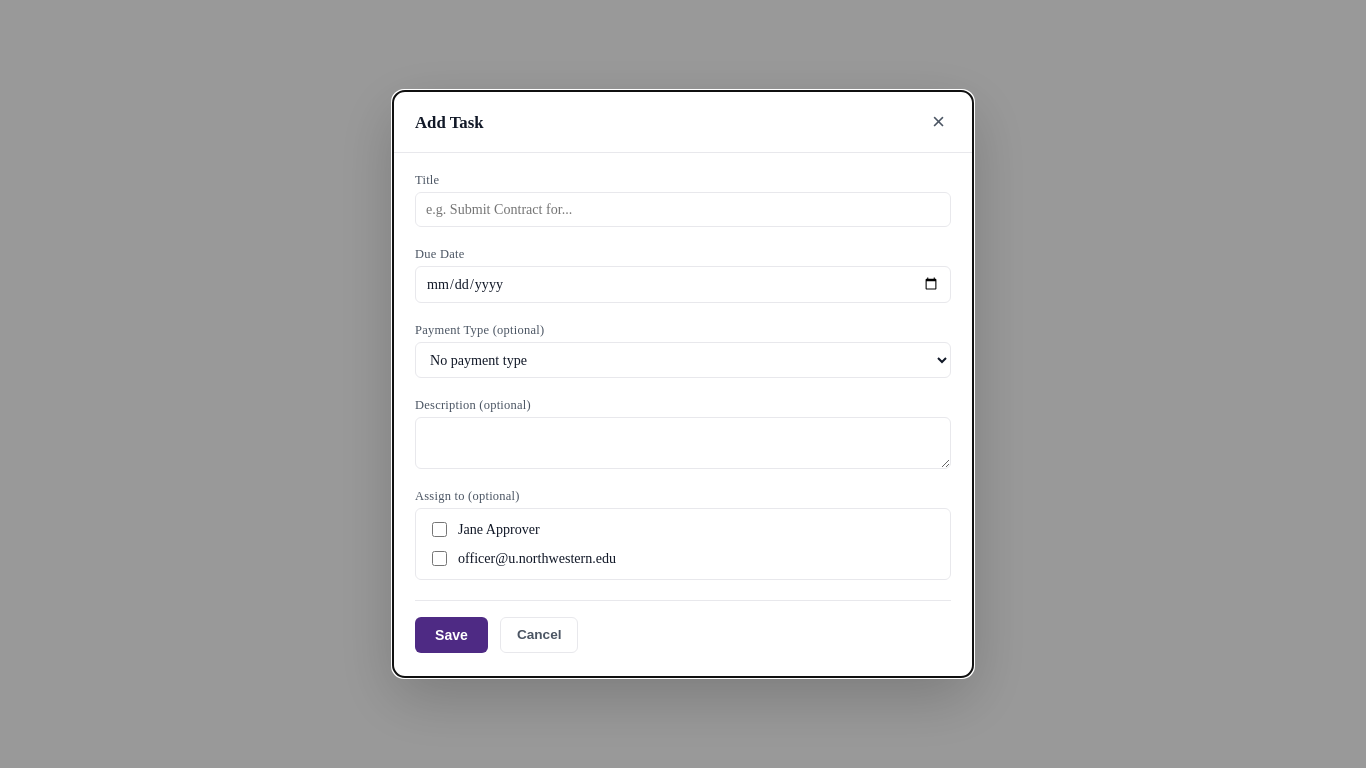
Test case: TaskFormModal › shows a validation error and does not save when due date is missing
The image size is (1366, 768).
Type "Submit Contract" into the field labelled "Title" at (683, 209), box [415,192,951,227]
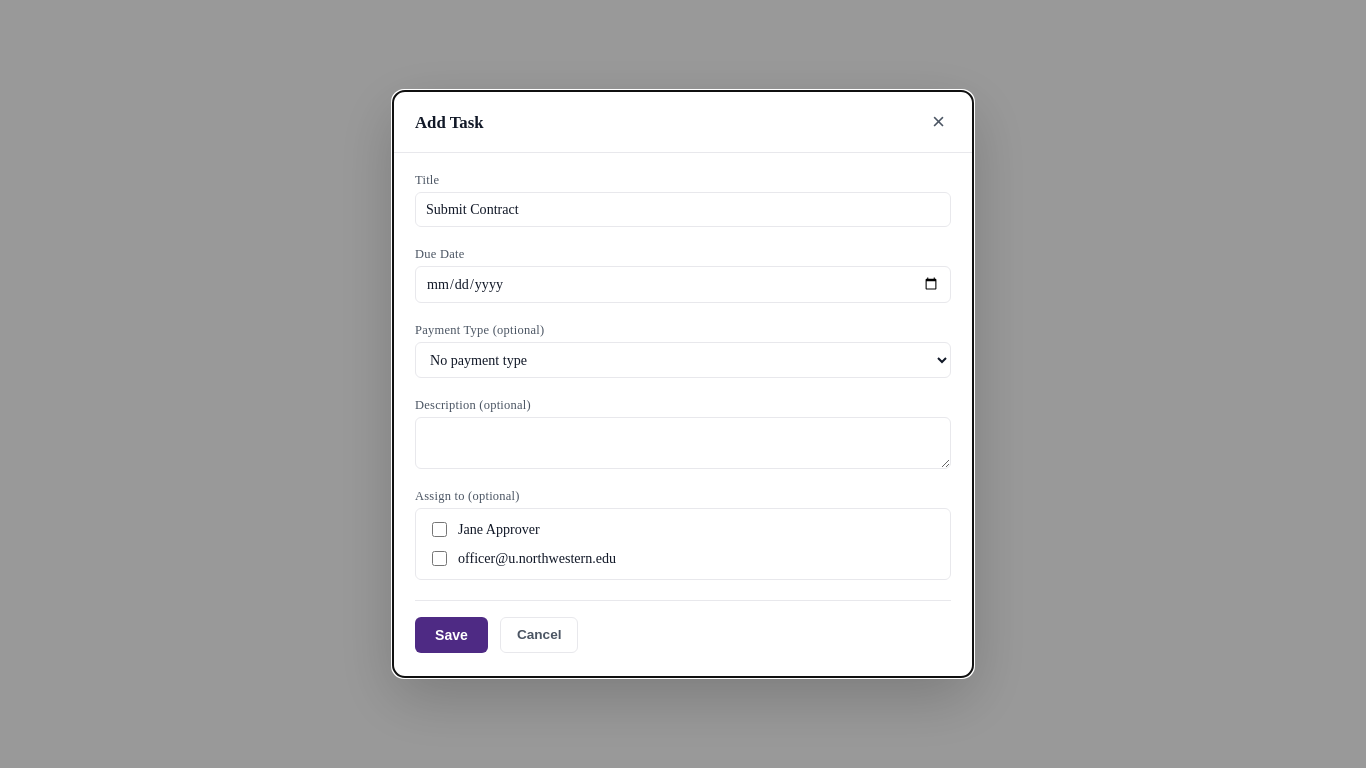
Click the button "Save" at (451, 635), box [415,617,488,653]
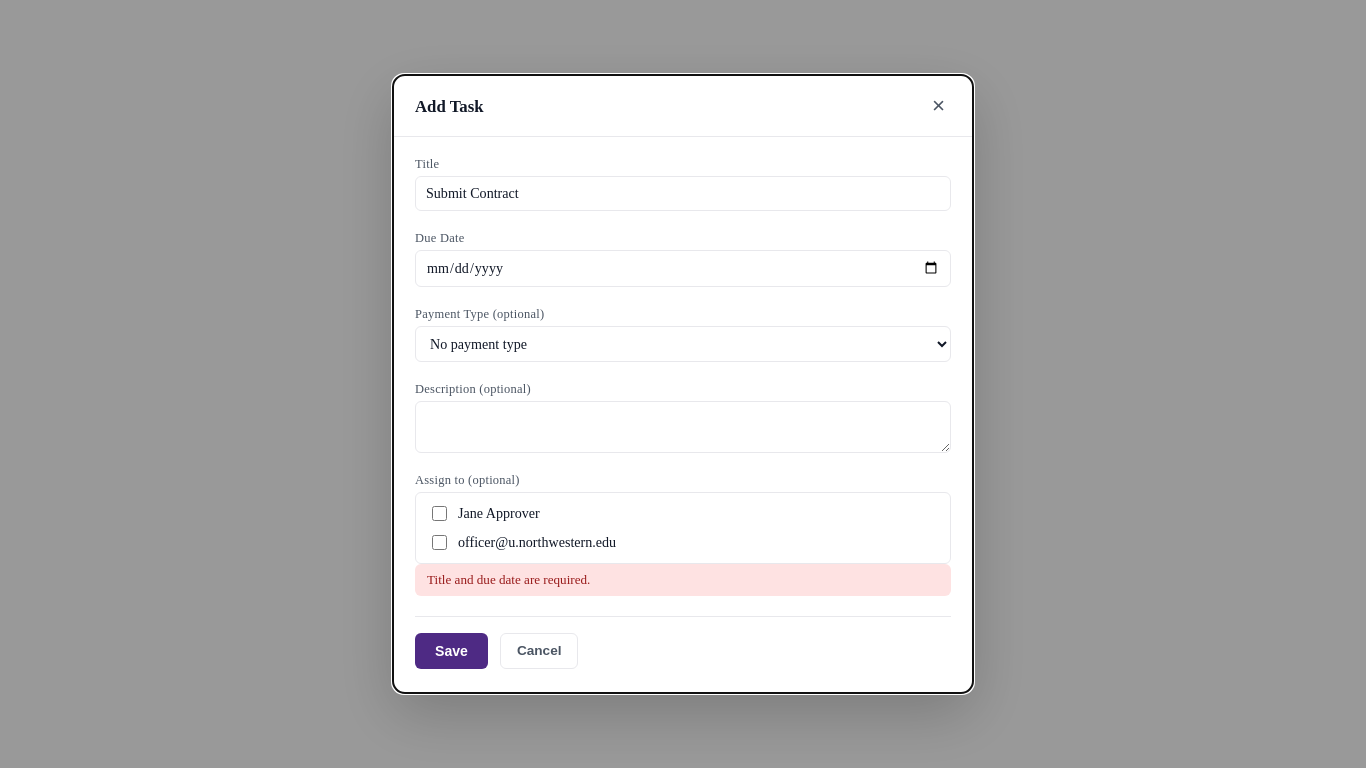
Expected: the text "Title and due date are required." is shown, [415,564,951,596]
